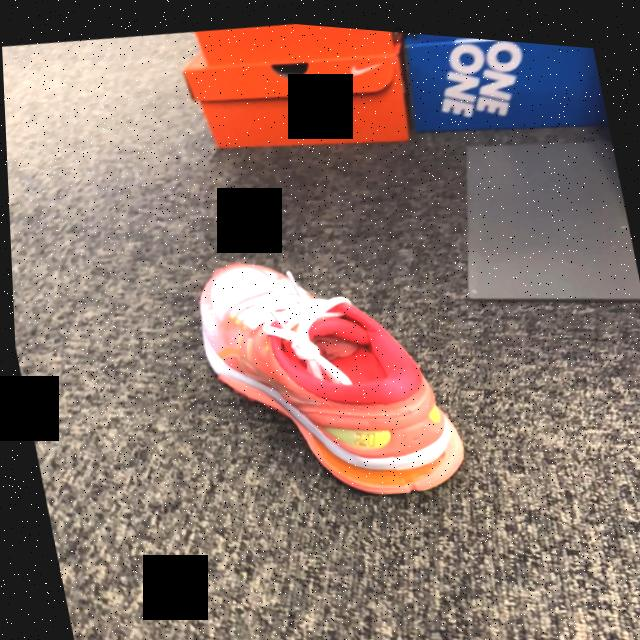shoe: (197, 259, 461, 489)
